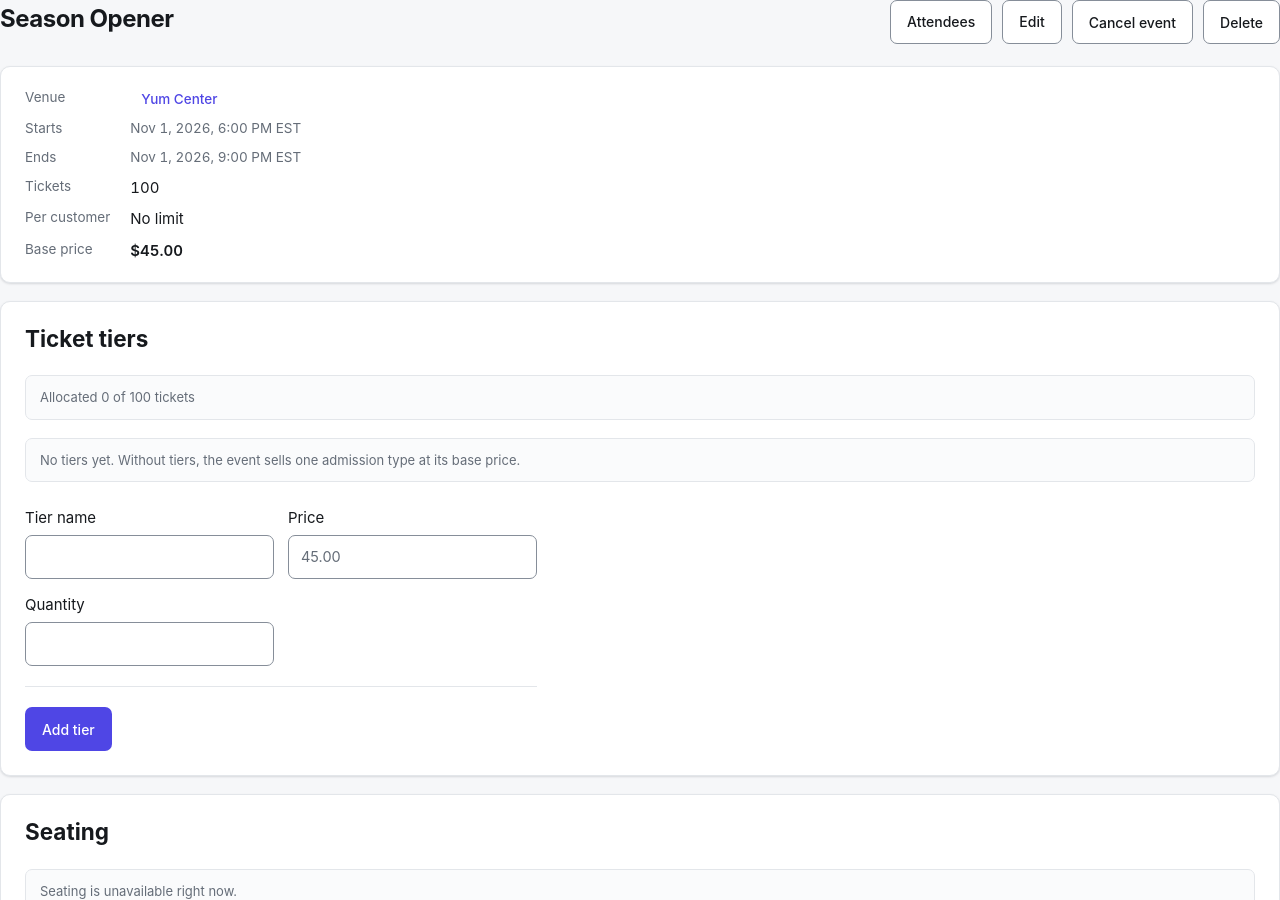
Test case: Cancel event › cancels after confirmation, reports the counts, and makes the page read-only
Click the button "Cancel event".
click(1132, 22)  # box [1072,0,1193,44]
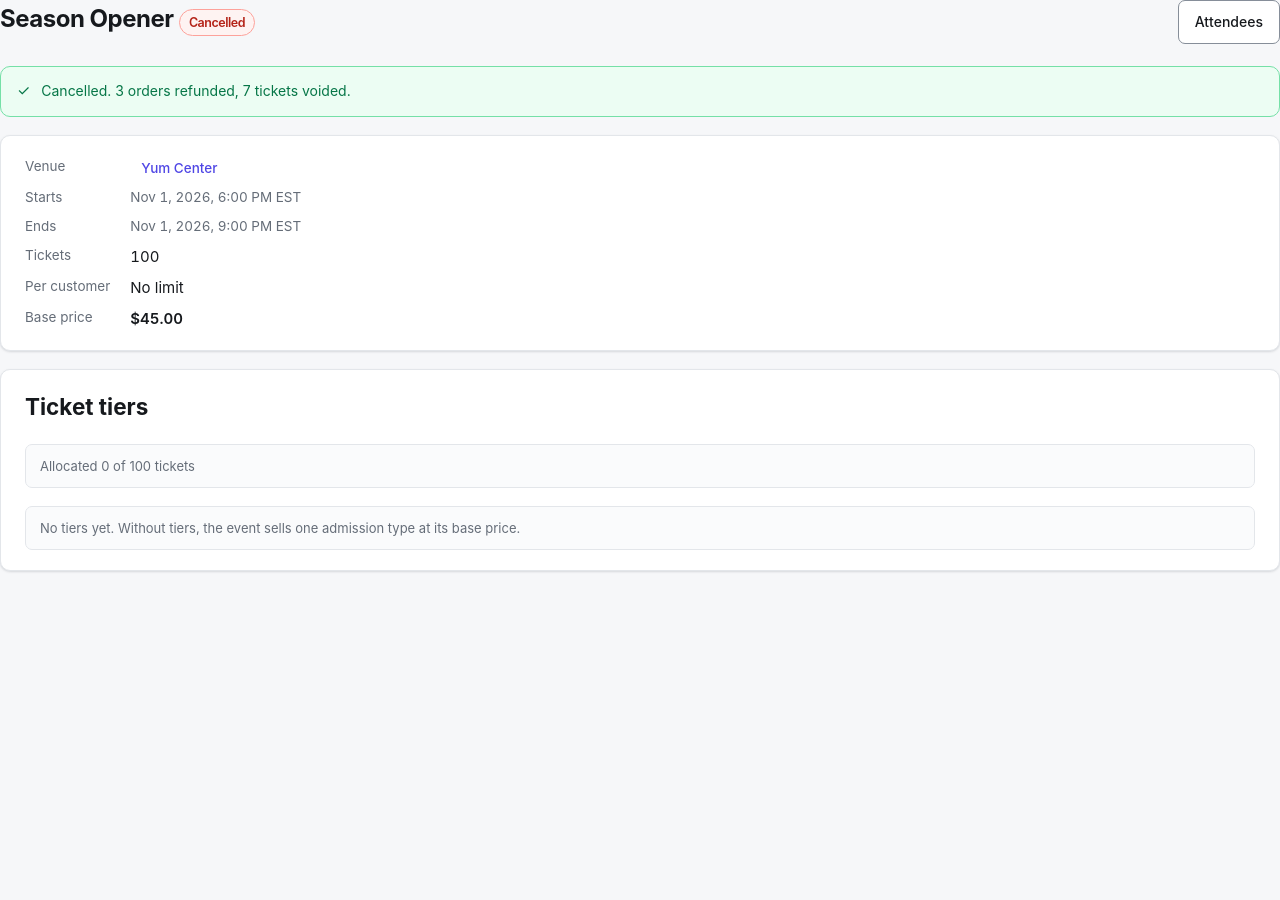
Expected: the text "Cancelled. 3 orders refunded, 7 tickets voided." is shown, [41,80,351,102]
Expected: the text "Cancelled" is shown, [179,9,255,36]
Expected: the link "Edit" is gone
